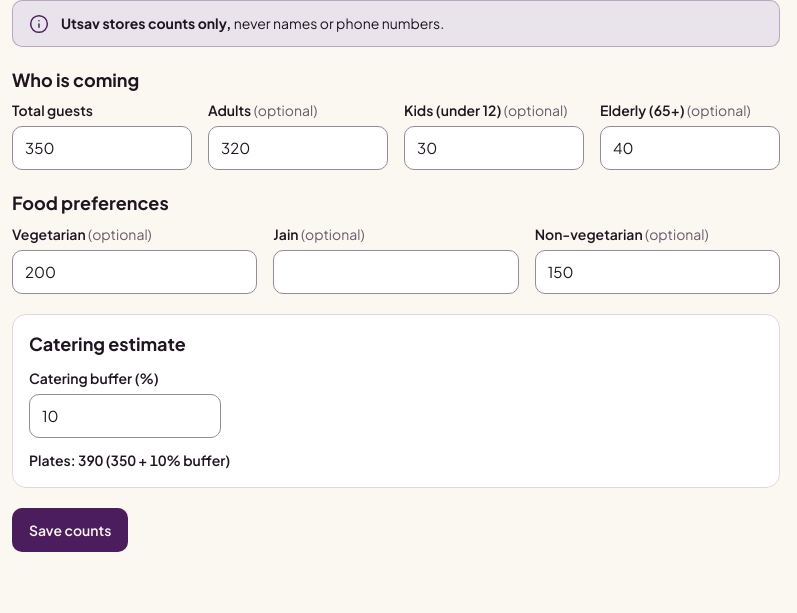
it: failed manual edits are reported (spec 3.4, QA-02 regression) › a form that shows the reason itself gets no second message in a toast
Click the button "Save counts" at coordinates (70, 530), box [12, 508, 128, 552]
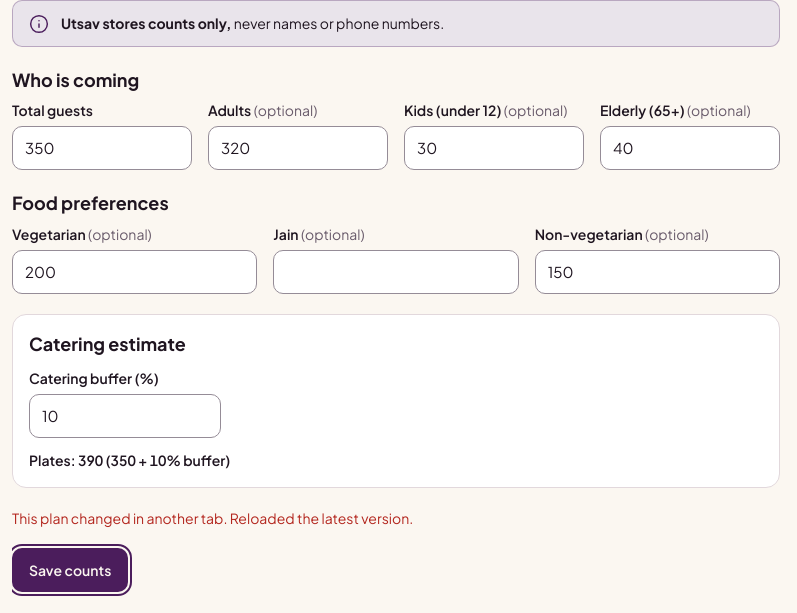
Check: the text "This plan changed in another tab. Reloaded the latest version." is shown, box [12, 509, 413, 527]
